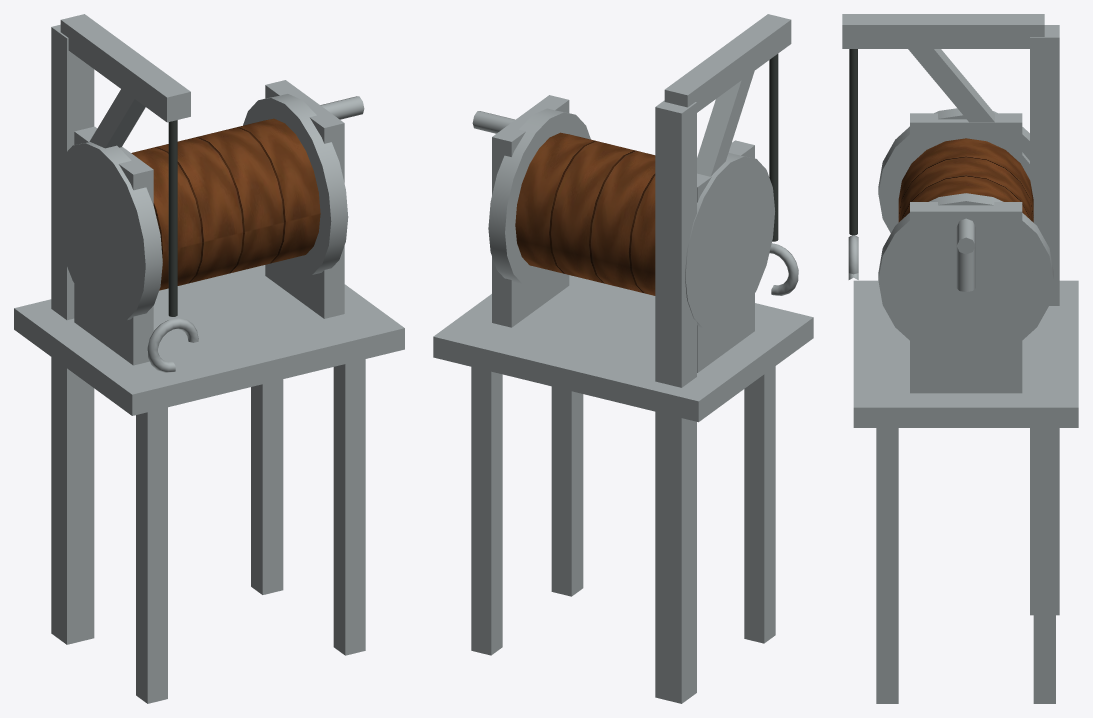
File: bunker-shelter-construction-maintenance-hoist-eb394640__23388.glb
3 views of the same model, side by side, from view 1: azimuth 30°, elevation 25°; view 2: azimuth 150°, elevation 25°; view 3: azimuth 270°, elevation 25° (orthographic). The views are drawn at different scales.
Parts seen in each view (by area): view 1: maintenance-hoist; view 2: maintenance-hoist; view 3: maintenance-hoist.
Boxes of the visible parts, x1=… form: maintenance-hoist: x1=14, y1=14, x2=404, y2=703; maintenance-hoist: x1=433, y1=14, x2=813, y2=703; maintenance-hoist: x1=842, y1=14, x2=1078, y2=703.
Bounding box in the file's own units: 0.84 × 1.74 × 0.6299.
Materials: 3 (1 with a texture image).
